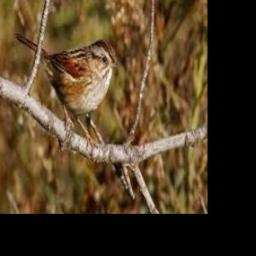Sparrow: (16, 34, 119, 158)
